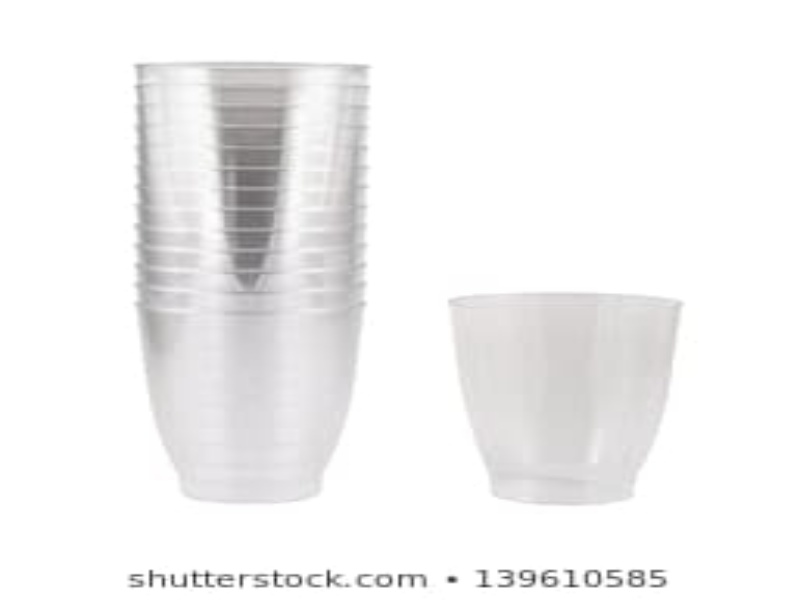plastic-cup: (128, 57, 371, 506), (446, 293, 692, 505), (136, 288, 373, 504)
